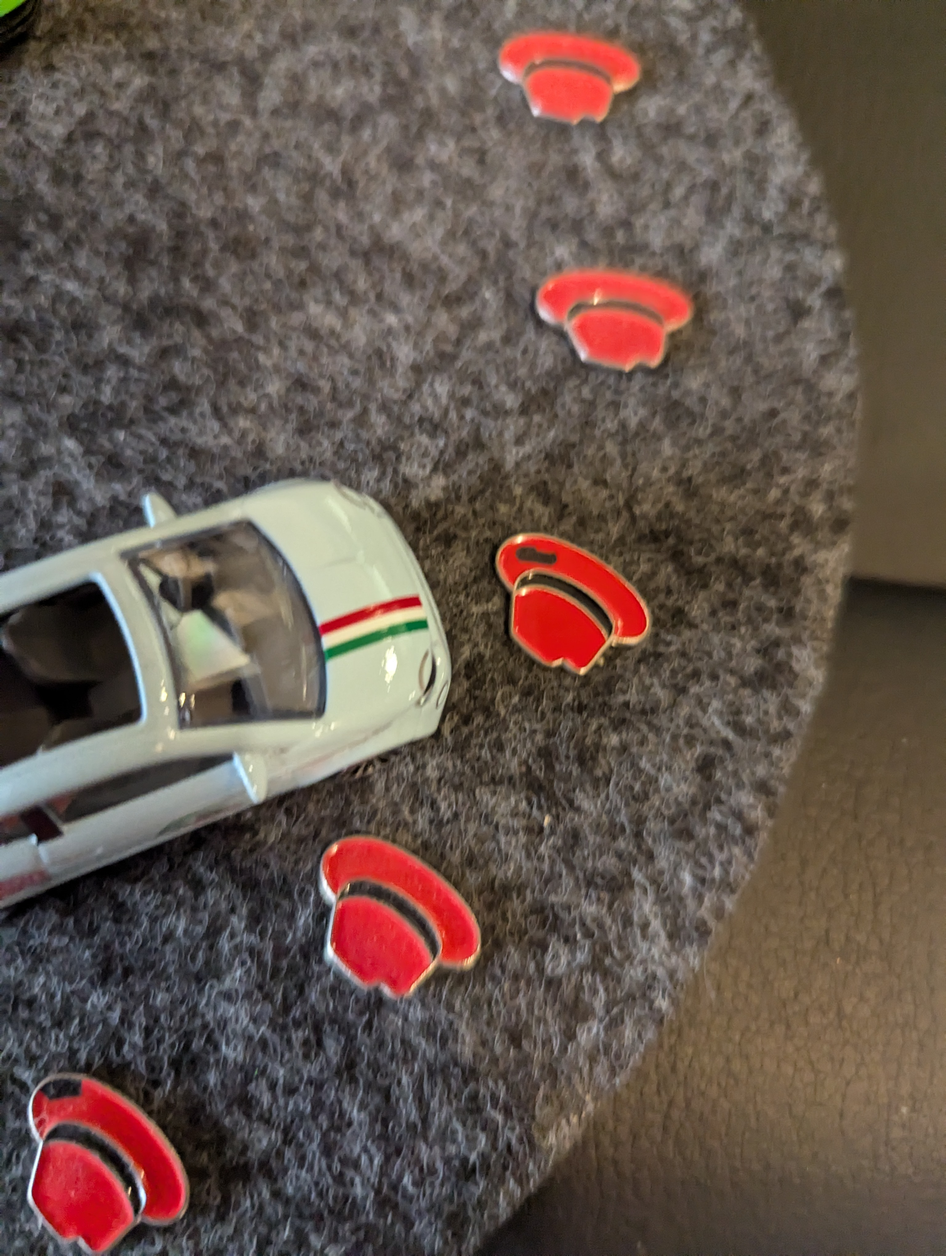Car: (0, 448, 459, 938)
Red-Hat: (291, 821, 531, 1053), (3, 1034, 246, 1256), (469, 499, 694, 699), (503, 246, 743, 406), (474, 7, 689, 144)
Scratch: (18, 1053, 108, 1110), (488, 526, 574, 579)
